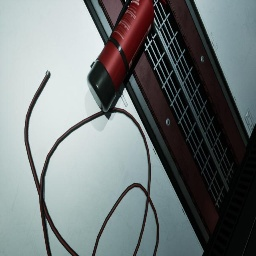FireExtinguisher ]: (86, 0, 166, 112)
